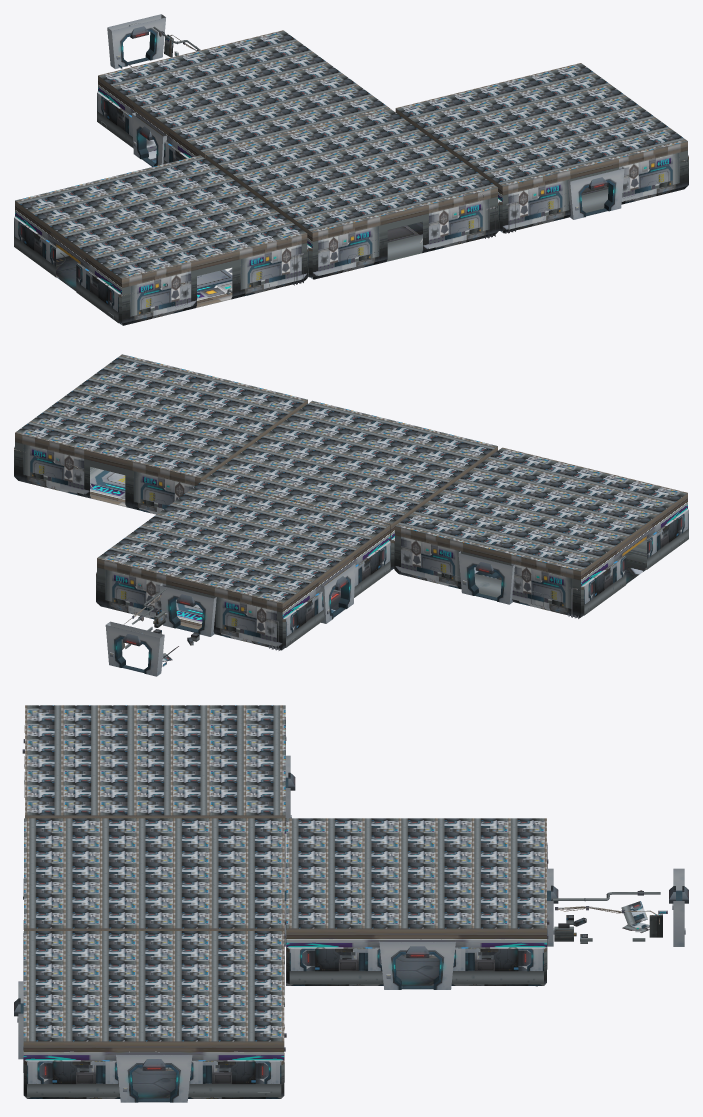
File: Combined_Mesh_root_scene__10_7ad9d44b__ZombiesII_laboratory_04_d_1b2a1172_c1f257_part002.obj
The picture shows the model from 3 angles, top to bottom: view 1: azimuth 30°, elevation 25°; view 2: azimuth 150°, elevation 25°; view 3: azimuth 270°, elevation 25°; orthographic projection. The views are drawn at different scales.
Bounding box in the file's own units: 124 × 10.21 × 104.
Materials: 261 (261 with a texture image).
